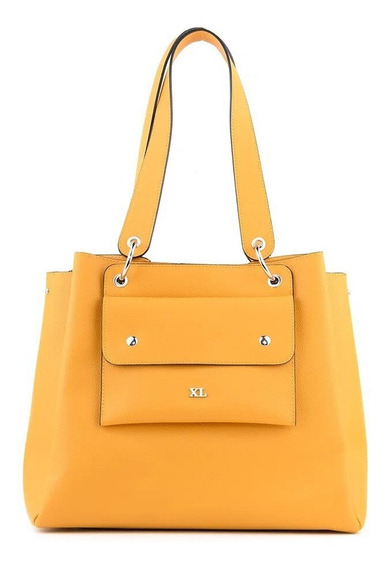cartera: (19, 24, 370, 537)
